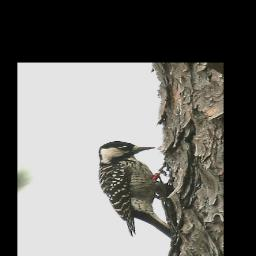Woodpecker: (98, 141, 178, 239)
